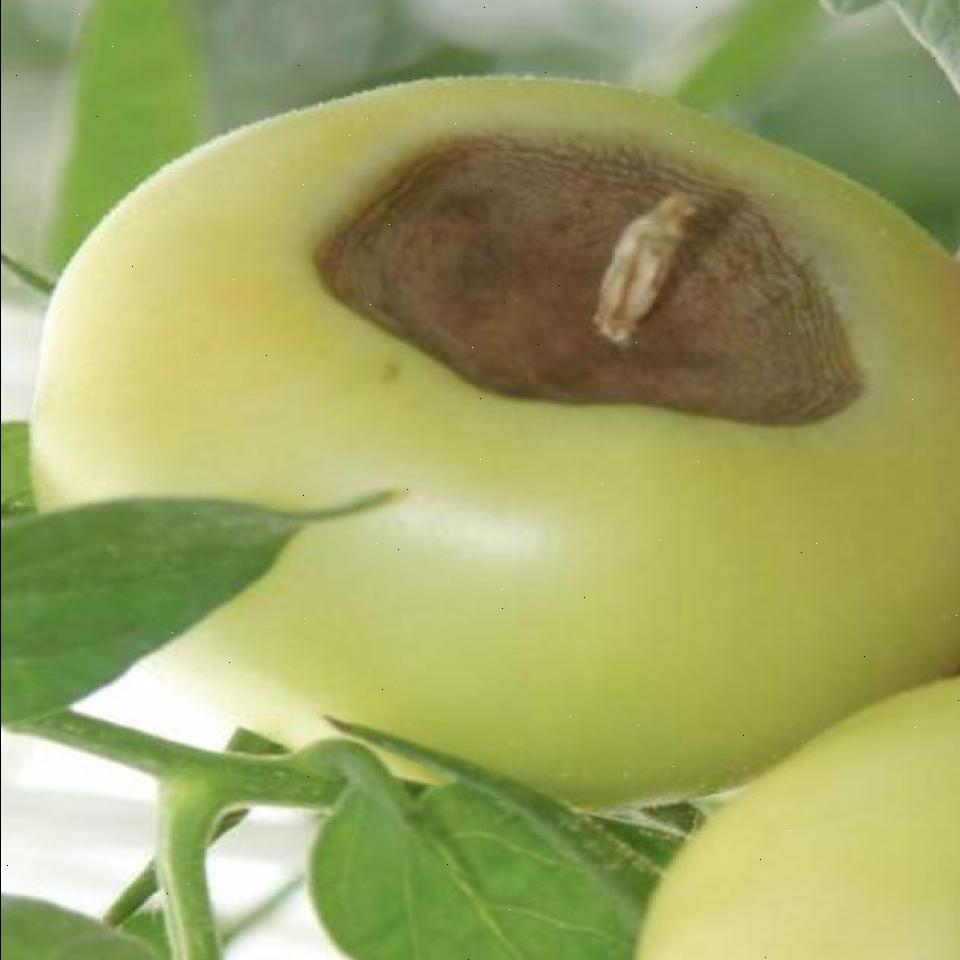Blossom_end_rot: (302, 133, 880, 431)
